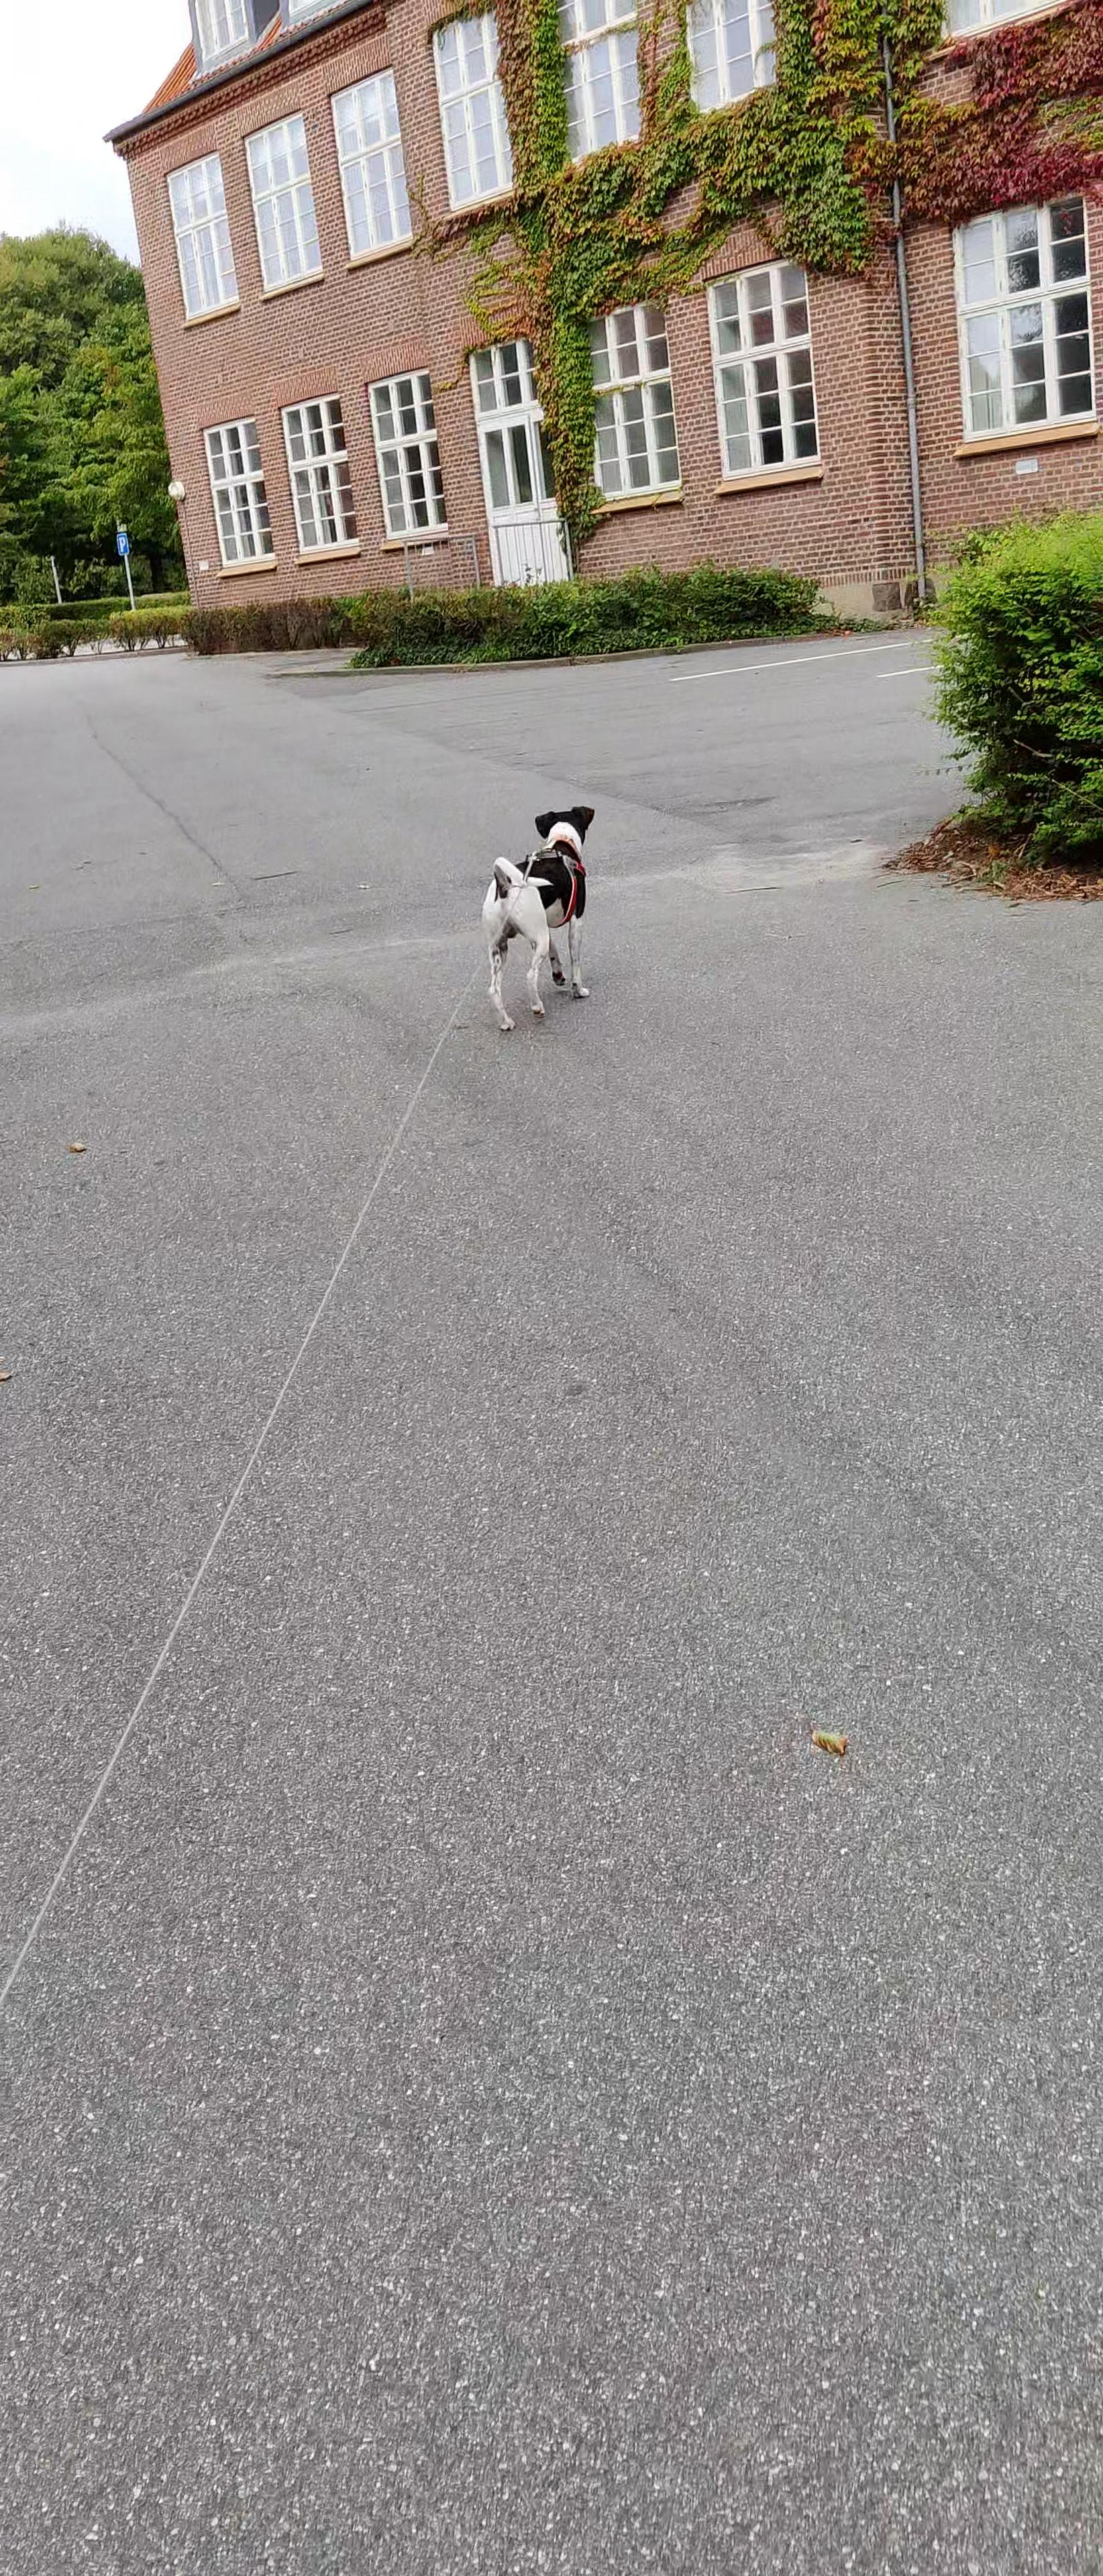Dog: (468, 793, 613, 1035)
